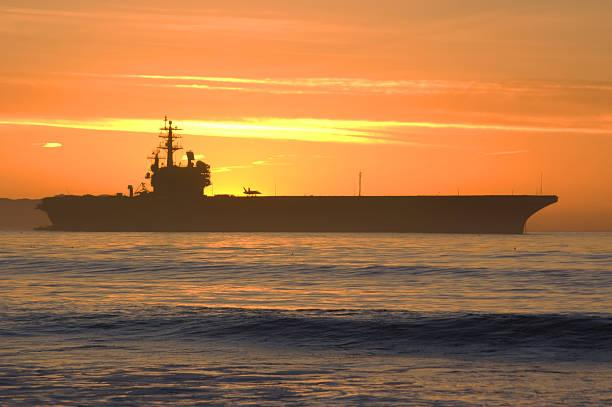MIL_Ship: (35, 113, 560, 238)
